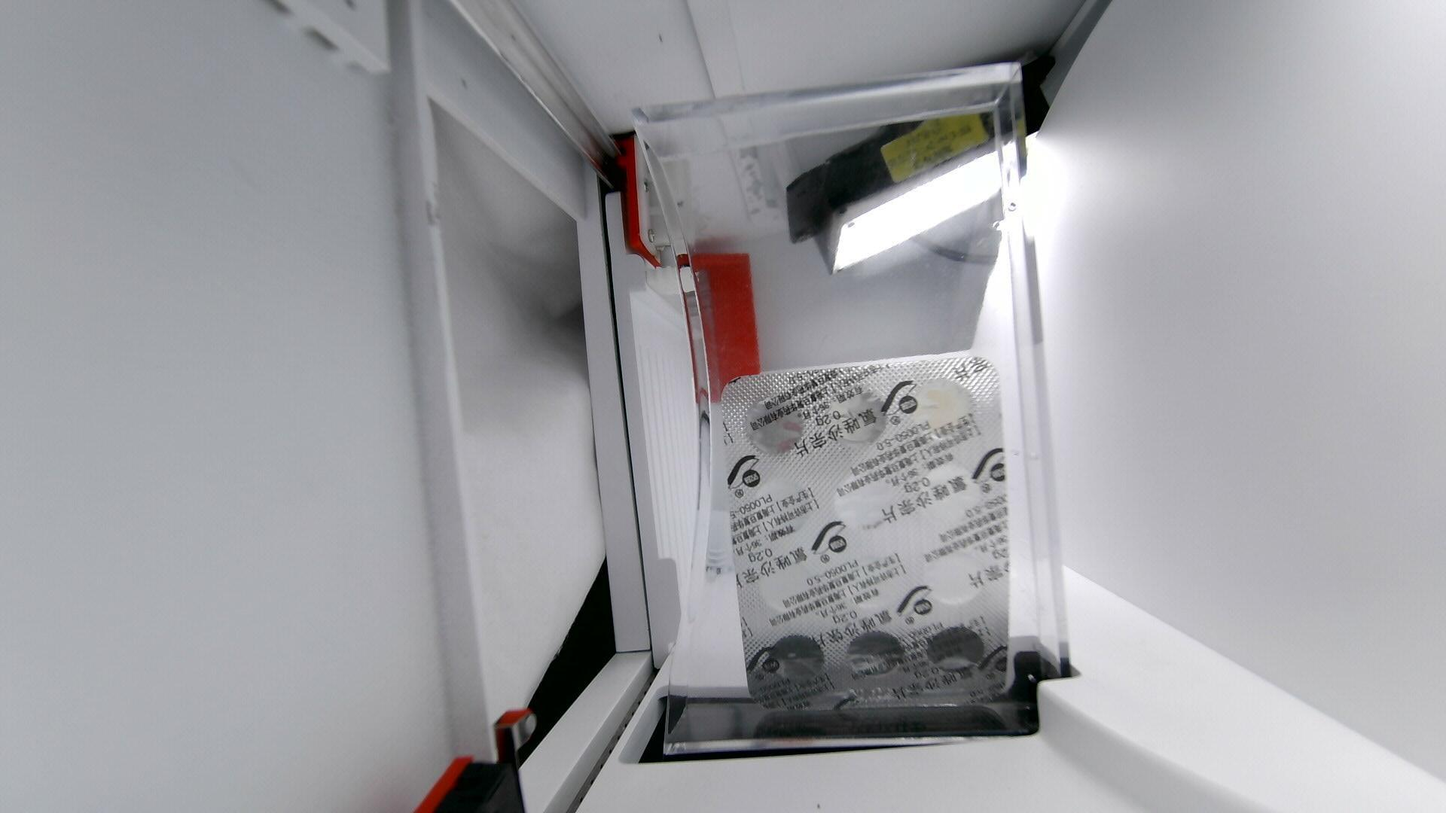Pill Back: (908, 371, 974, 452), (734, 391, 809, 458), (829, 475, 905, 536), (919, 540, 990, 604), (824, 381, 888, 447), (763, 625, 829, 689), (839, 556, 908, 617), (755, 549, 824, 609), (924, 625, 998, 679), (918, 462, 982, 524), (841, 627, 909, 683), (751, 477, 812, 539)
